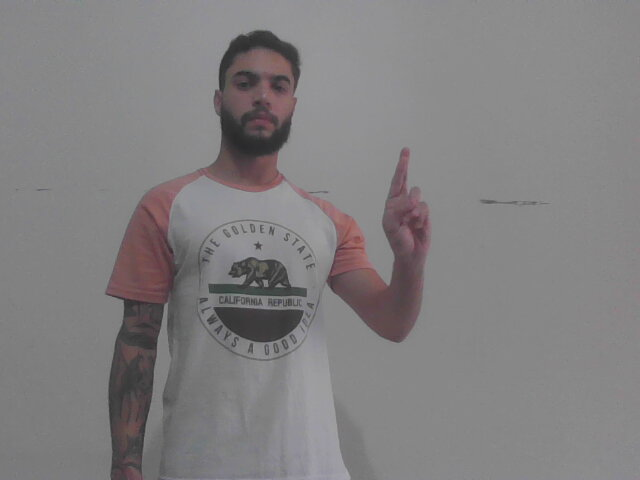r: (377, 144, 436, 266)
